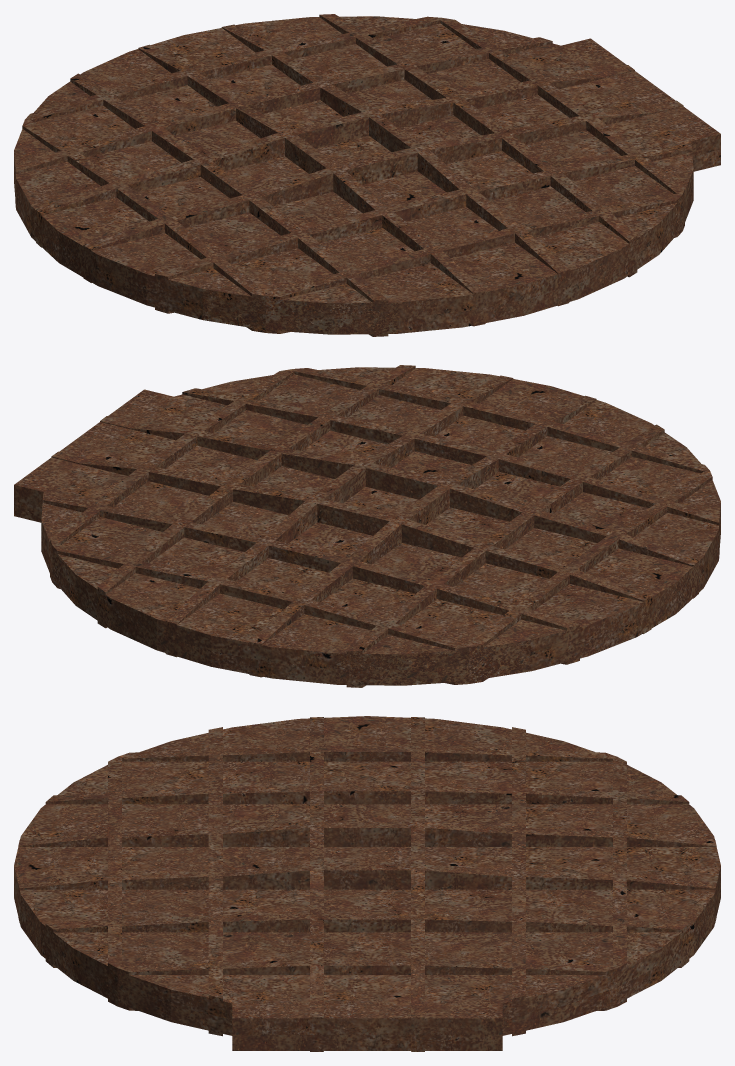
Rendered from zelezna_vrata.obj.
3 renders of one model, top to bottom at view 1: azimuth 30°, elevation 25°; view 2: azimuth 150°, elevation 25°; view 3: azimuth 270°, elevation 25°, orthographic. The views are drawn at different scales.
Visible parts, largest first — view 1: zelezna_vrata_Plane.001; view 2: zelezna_vrata_Plane.001; view 3: zelezna_vrata_Plane.001.
Part boxes in pixels (left/top/right/bottom): zelezna_vrata_Plane.001: left=14, top=14, right=720, bottom=336; zelezna_vrata_Plane.001: left=14, top=365, right=720, bottom=687; zelezna_vrata_Plane.001: left=14, top=716, right=720, bottom=1051.
Size of the model in its own units: 4.05 by 0.4433 by 4.
Materials: 1 (1 with a texture image).
